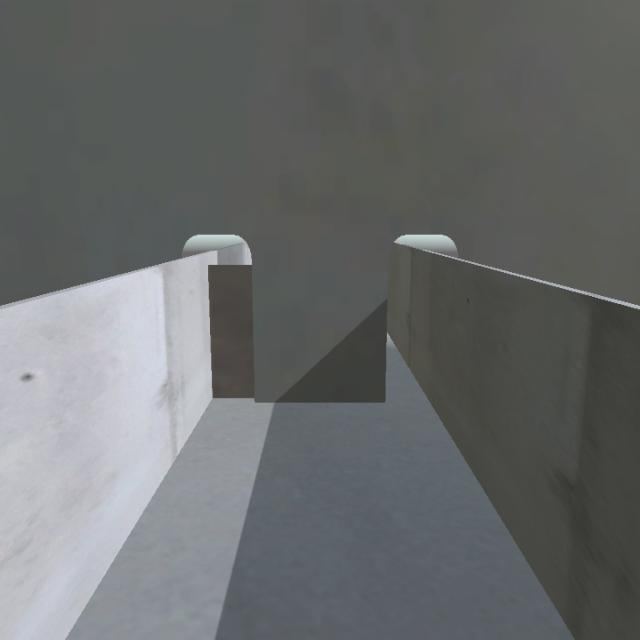fillet_yong_jeop_jang: (212, 389, 384, 405)
longi_yong_jeop_jang: (204, 265, 215, 401)
plate_behind: (210, 267, 252, 402)
